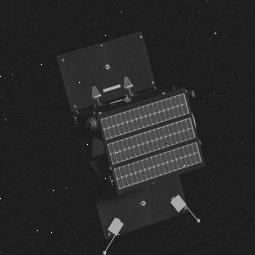proba_2: (47, 44, 197, 220)
